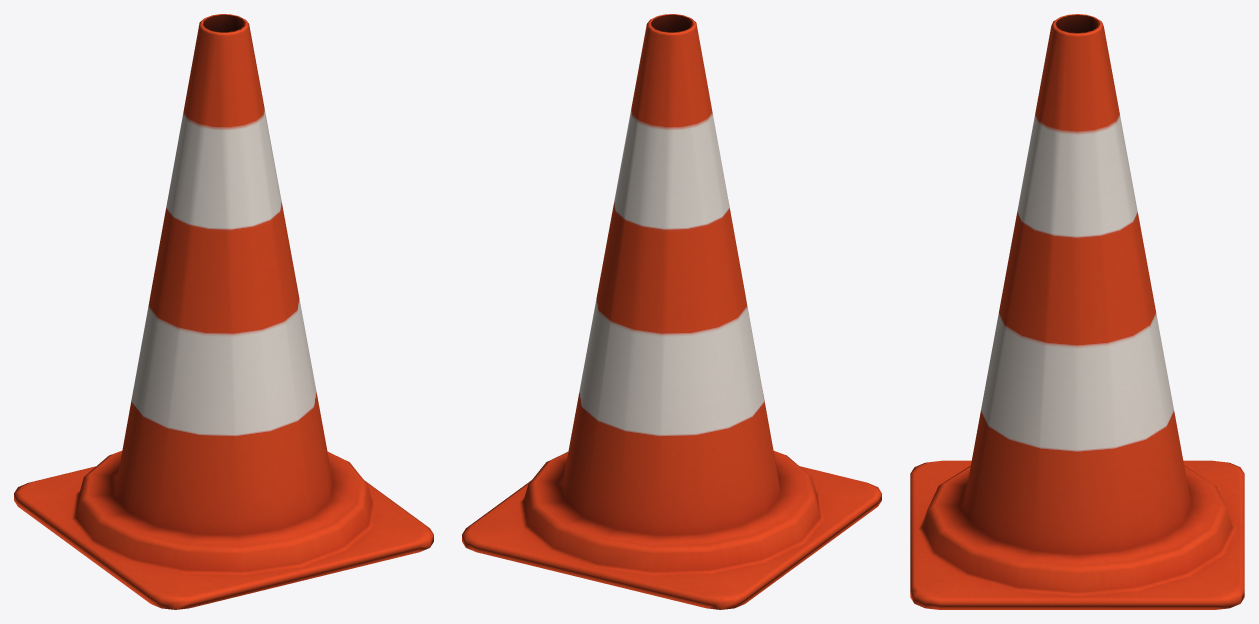
Rendered from absperrhut.fbx.
3 renders of one model, left to right at view 1: azimuth 30°, elevation 25°; view 2: azimuth 150°, elevation 25°; view 3: azimuth 270°, elevation 25°, orthographic. The views are drawn at different scales.
Visible parts, largest first — view 1: Mesh; view 2: Mesh; view 3: Mesh.
Boxes of the visible parts, bbox=[...] form: Mesh: bbox=[14, 14, 433, 609]; Mesh: bbox=[462, 14, 881, 609]; Mesh: bbox=[910, 14, 1244, 609].
Bounding box in the file's own units: 27.24 × 46.39 × 27.25.
